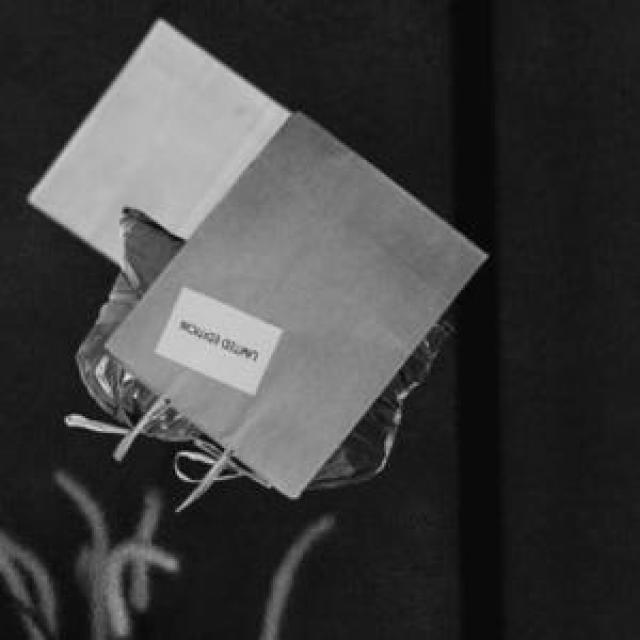miscellaneous trash: (62, 203, 450, 484)
paper: (100, 109, 484, 508), (26, 17, 288, 260)
